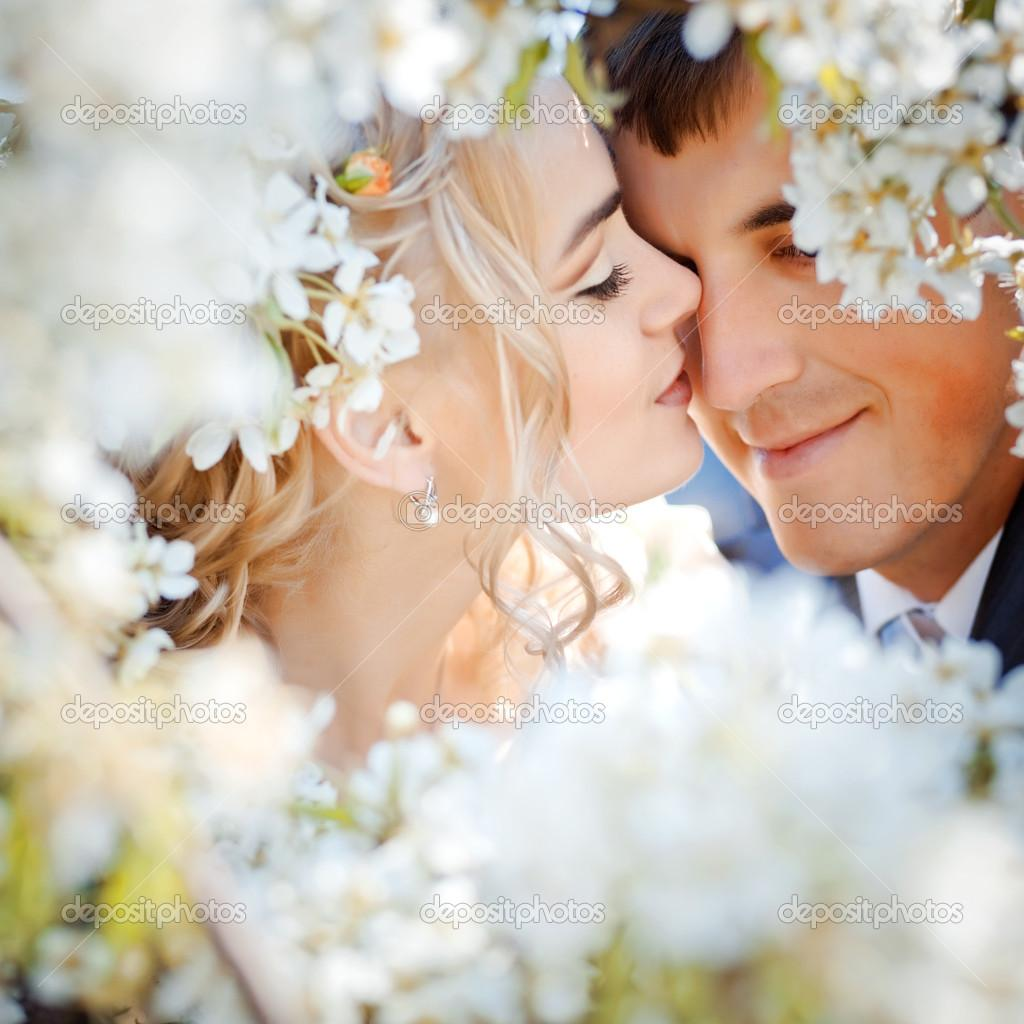face: (586, 18, 1024, 572), (346, 58, 706, 504)
